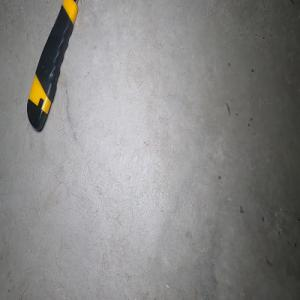Cutter: (26, 0, 79, 132)
